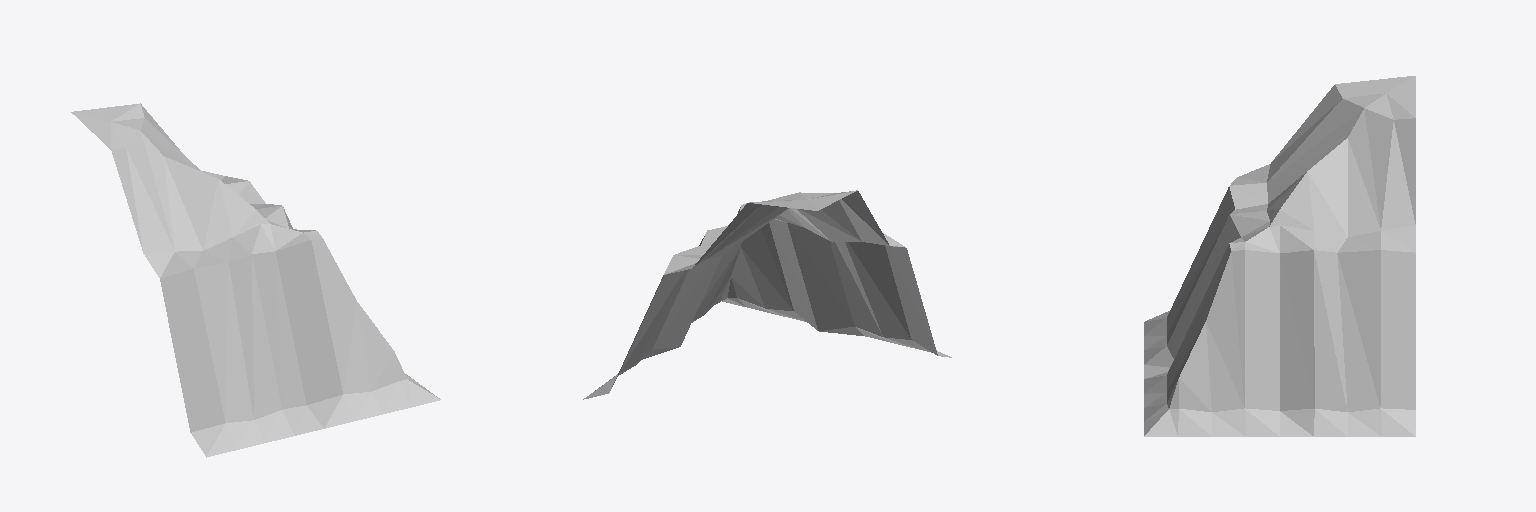
File: OutSideCorner_LowRes.obj
3 renders of one model, left to right at view 1: azimuth 30°, elevation 25°; view 2: azimuth 150°, elevation 25°; view 3: azimuth 270°, elevation 25°, orthographic.
Visible parts, largest first — view 1: Plane; view 2: Plane; view 3: Plane.
Boxes of the visible parts, <box> form: Plane: <box>71,103,440,457</box>; Plane: <box>583,190,951,399</box>; Plane: <box>1144,76,1415,436</box>.
Size of the model in its own units: 2 by 2 by 2.